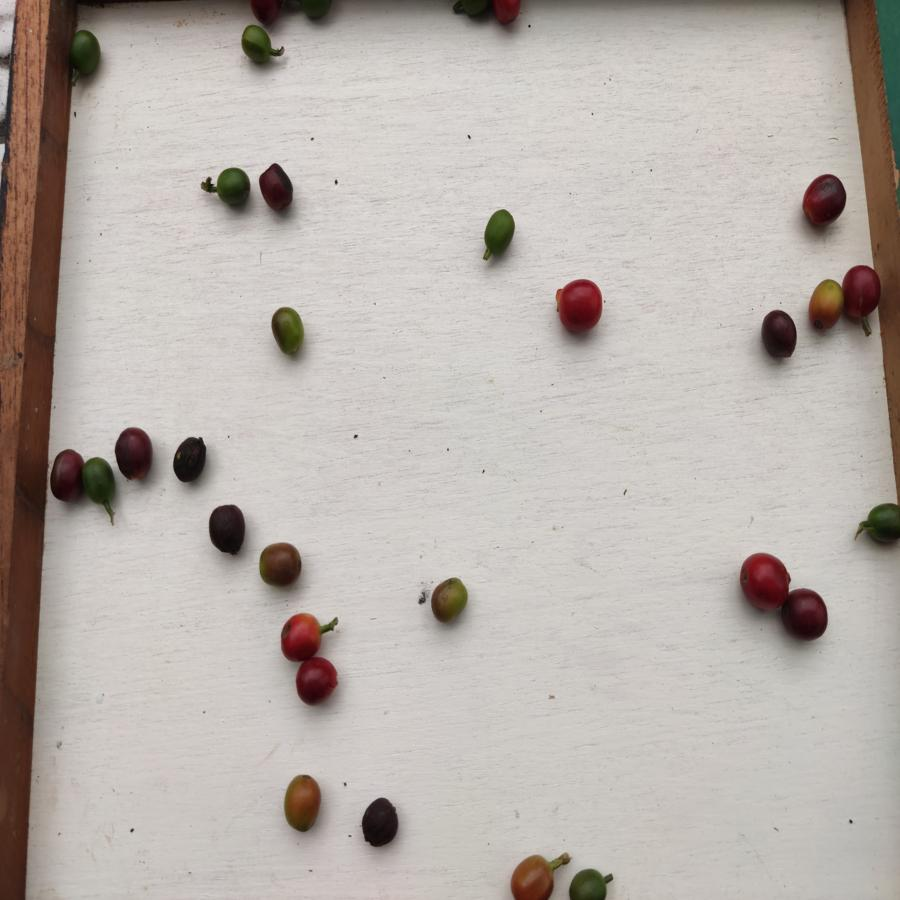Inmaduro: (269, 306, 312, 356), (862, 496, 900, 547), (80, 456, 119, 505), (481, 206, 516, 256), (566, 864, 613, 900), (214, 166, 251, 206), (70, 29, 103, 73), (239, 23, 274, 63), (301, 1, 336, 19), (454, 1, 493, 16)
Maduro: (736, 551, 791, 609), (556, 275, 605, 336), (294, 656, 341, 704), (279, 613, 324, 659), (491, 1, 525, 26)
Pinton: (281, 774, 325, 835), (256, 541, 306, 586), (508, 854, 555, 900), (806, 277, 843, 334), (431, 573, 469, 626)
Sobremaduro: (802, 171, 849, 229), (841, 261, 881, 324), (785, 588, 829, 644), (208, 501, 249, 560), (114, 426, 155, 485), (758, 308, 799, 359), (256, 162, 295, 214), (361, 796, 399, 848), (171, 432, 206, 486), (48, 450, 82, 501), (249, 1, 282, 23)
